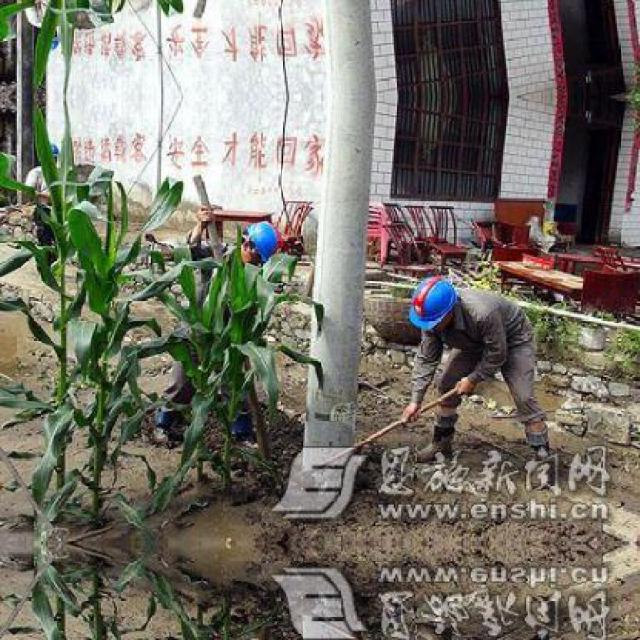helmet: (411, 271, 460, 326), (244, 217, 279, 263)
